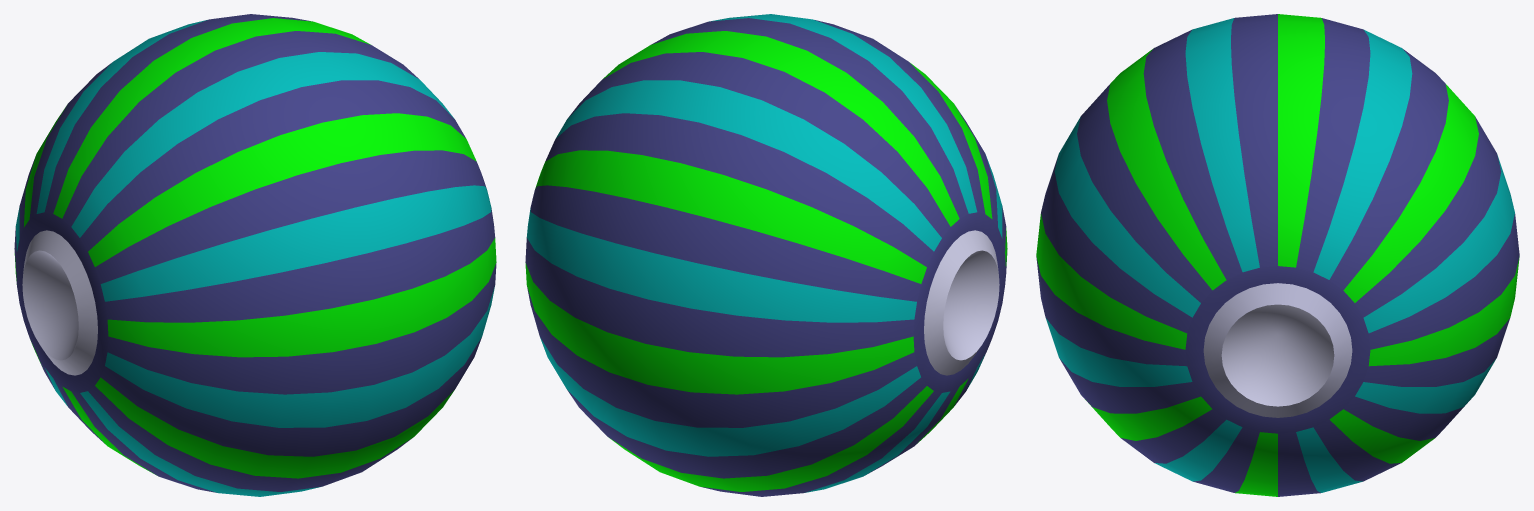
Rendered from character_ball.fbx.
3 views of the same model, side by side, from view 1: azimuth 30°, elevation 25°; view 2: azimuth 150°, elevation 25°; view 3: azimuth 270°, elevation 25° (orthographic).
Parts seen in each view (by area): view 1: Ball; view 2: Ball; view 3: Ball.
Part boxes in pixels (<box>): Ball: <box>14,14,496,496</box>; Ball: <box>525,14,1007,496</box>; Ball: <box>1036,14,1519,496</box>.
Bounding box in the file's own units: 43.26 × 44.16 × 44.16.
